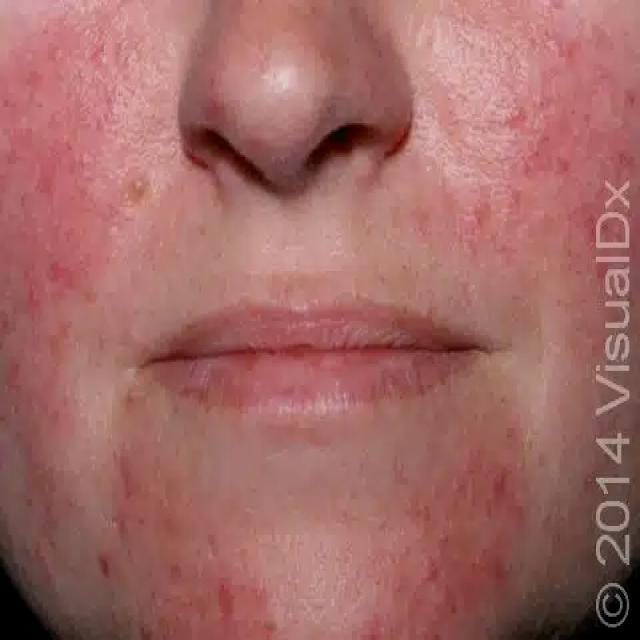Rosacea: (411, 0, 640, 360), (0, 6, 146, 554), (82, 458, 521, 640)
